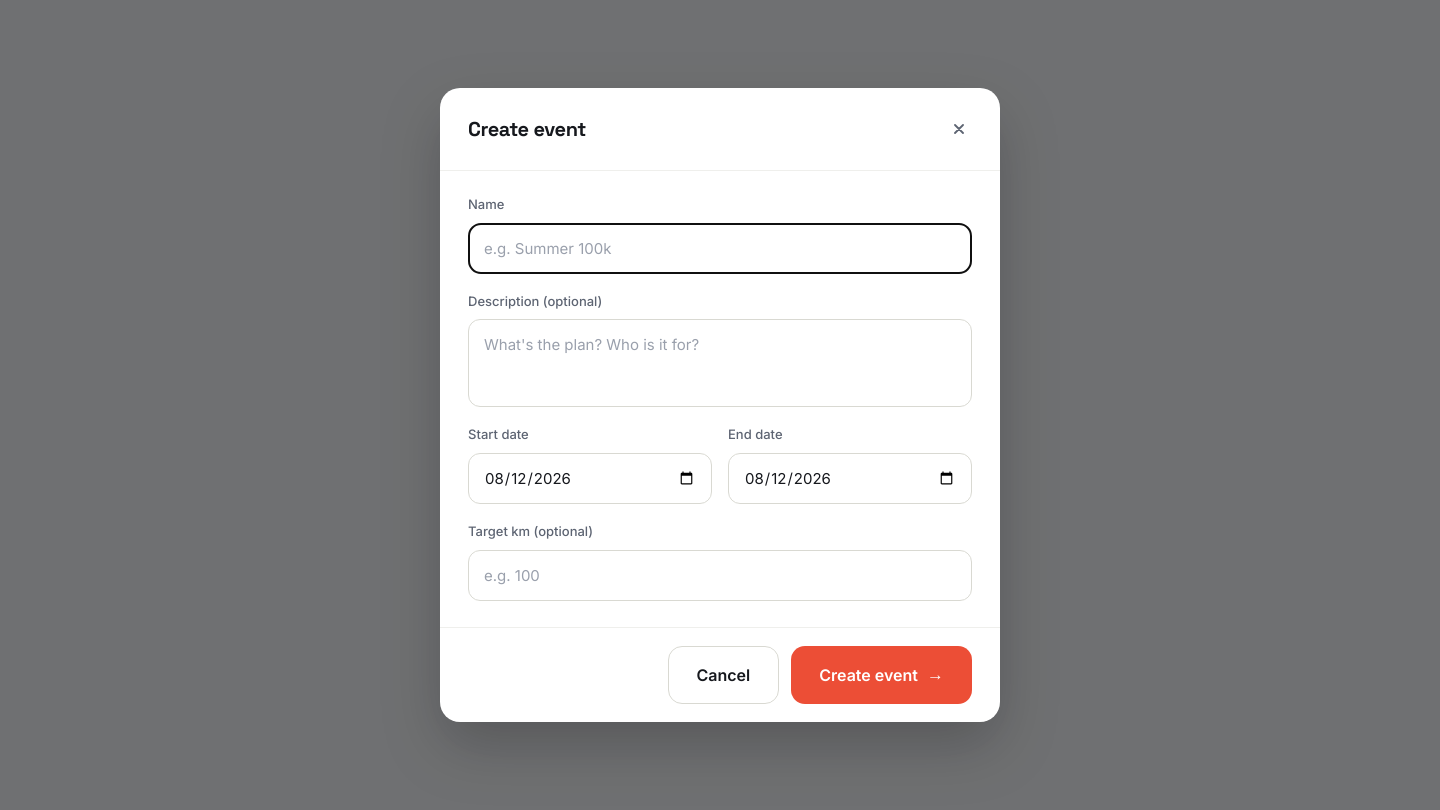
Test: EventModal (RUN-68 AC3) › blocks an invalid form inline, saving nothing
Expected: the date field labelled "Start date" holds "2026-08-12", [468, 453, 712, 504]
What coordinates should you click on to do the following:
click the button "Create event →"
I would click on:
 (882, 675)
Its box is [791, 646, 972, 704].
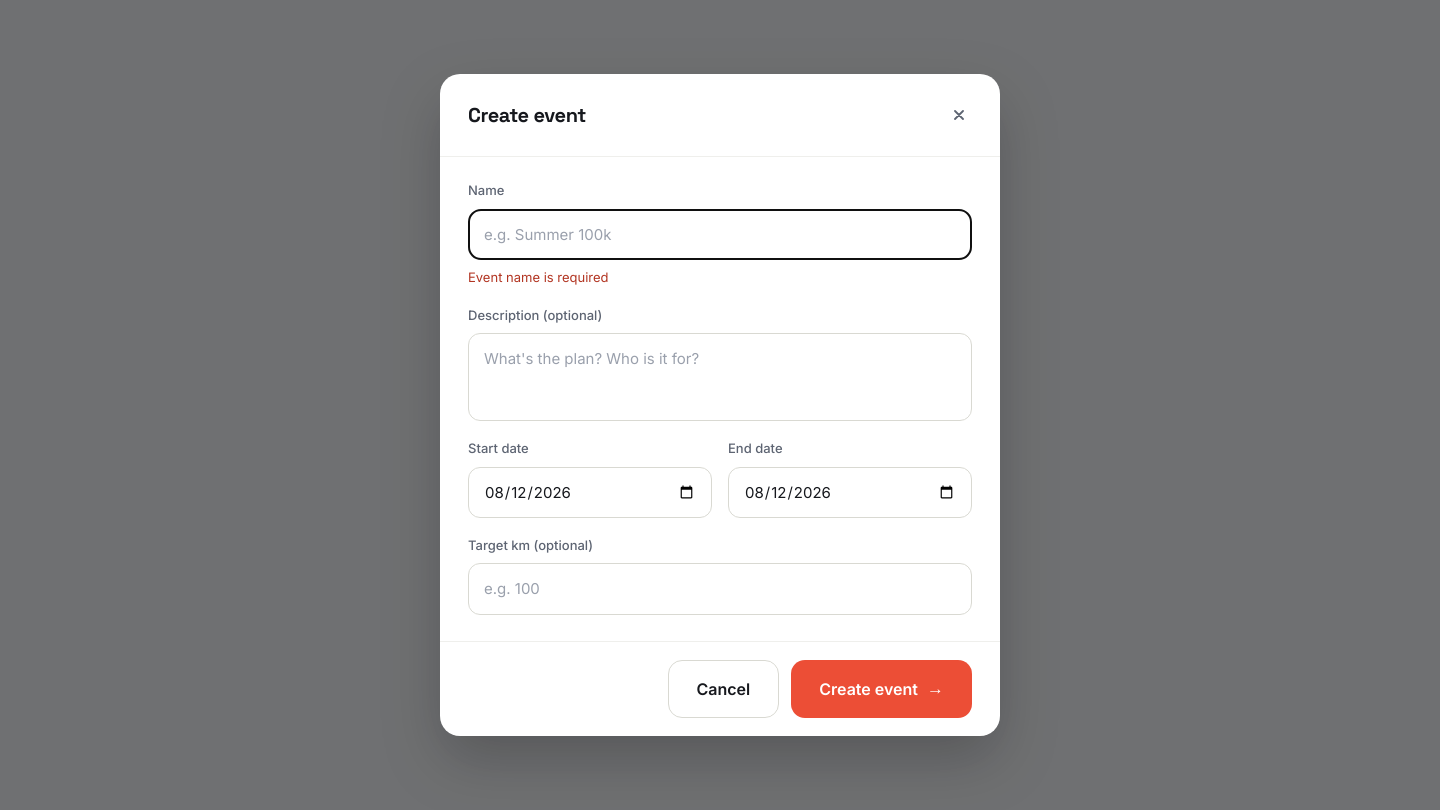
Now the text "Event name is required" is shown, box [468, 269, 609, 285]
